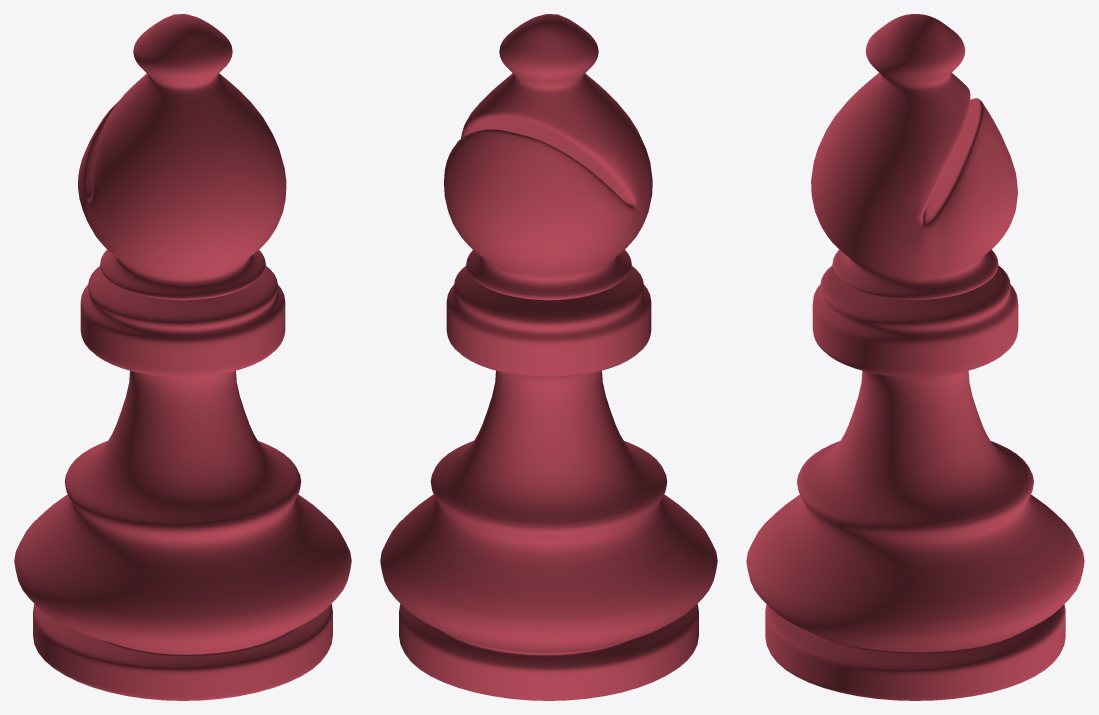
Rendered from bishop-b.glb.
3 renders of one model, left to right at view 1: azimuth 30°, elevation 25°; view 2: azimuth 150°, elevation 25°; view 3: azimuth 270°, elevation 25°, orthographic.
Parts seen in each view (by area): view 1: Object_34; view 2: Object_34; view 3: Object_34.
Boxes of the visible parts, x1,y1,x2,y2 form: Object_34: (14, 14, 351, 700); Object_34: (380, 14, 717, 700); Object_34: (746, 14, 1084, 700).
Bounding box in the file's own units: 0.7874 × 1.6 × 0.7874.
